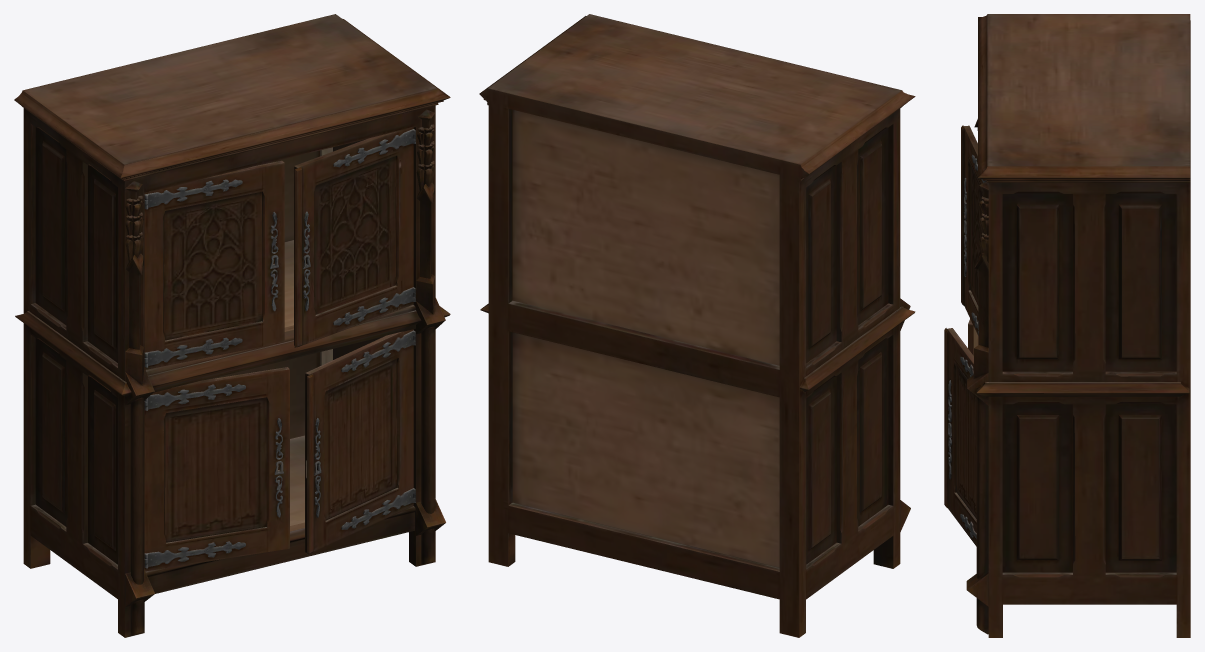
File: GothicCabinet_01.glb
The picture shows the model from 3 angles, left to right: view 1: azimuth 30°, elevation 25°; view 2: azimuth 150°, elevation 25°; view 3: azimuth 270°, elevation 25°; orthographic projection.
Parts seen in each view (by area): view 1: GothicCabinet_01_cabinet; view 2: GothicCabinet_01_cabinet; view 3: GothicCabinet_01_cabinet.
Part boxes in pixels (x1,y1,x2,y2): GothicCabinet_01_cabinet: (14,14,450,637); GothicCabinet_01_cabinet: (479,14,915,637); GothicCabinet_01_cabinet: (944,14,1190,637).
Bounding box in the file's own units: 1.72 × 2.36 × 1.12.
Materials: 1 (1 with a texture image).
